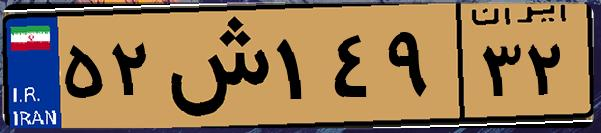1: (270, 28, 330, 110)
2: (525, 38, 570, 115), (110, 28, 158, 98)
3: (475, 38, 525, 113)
4: (330, 28, 385, 110)
5: (57, 26, 110, 100)
9: (385, 28, 445, 110)
ش: (158, 12, 270, 120)
